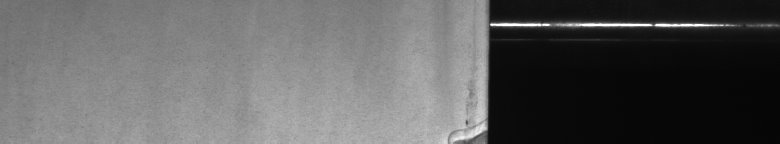hb: (446, 89, 476, 136)
